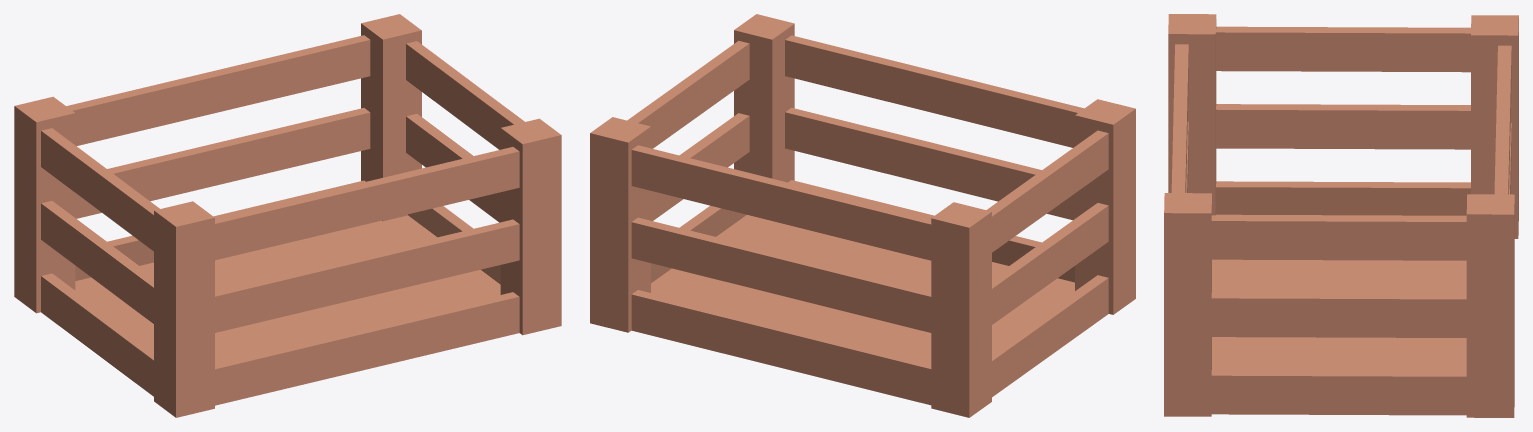
File: Crate.fbx
3 views of the same model, side by side, from view 1: azimuth 30°, elevation 25°; view 2: azimuth 150°, elevation 25°; view 3: azimuth 270°, elevation 25° (orthographic). The views are drawn at different scales.
Visible parts, largest first — view 1: crate; view 2: crate; view 3: crate.
Boxes of the visible parts, x1,y1,x2,y2 form: crate: [14, 14, 561, 417]; crate: [590, 14, 1135, 417]; crate: [1164, 14, 1518, 417].
Size of the model in its own units: 141 by 66.78 by 106.
